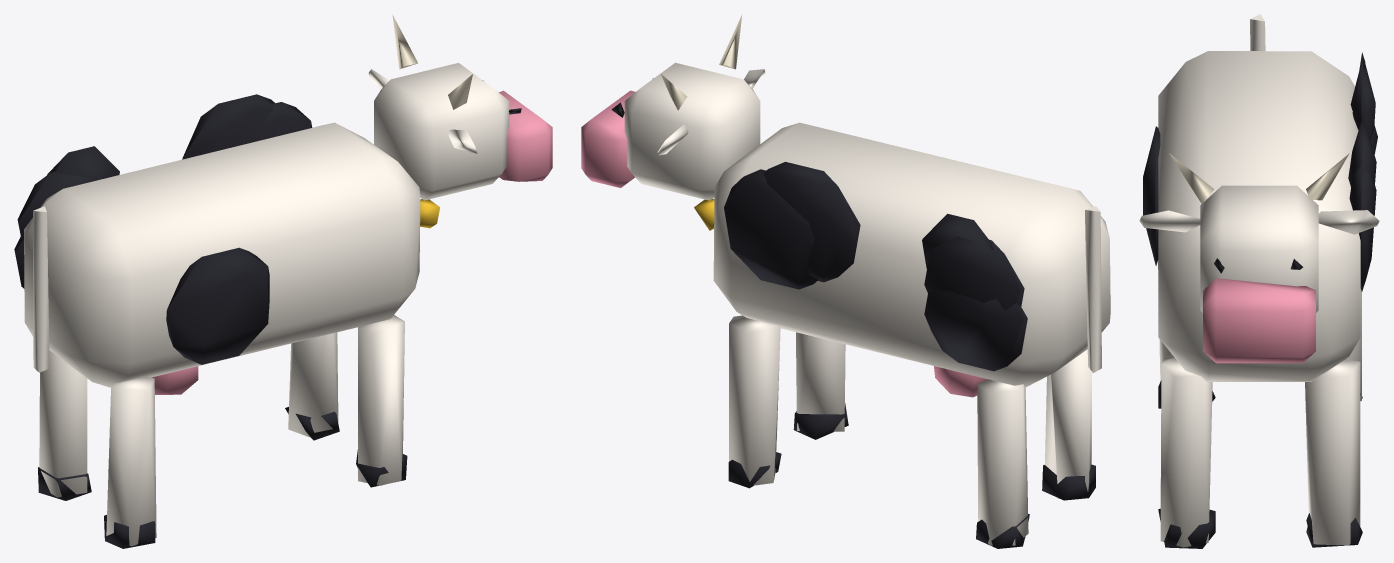
File: cow.glb
3 views of the same model, side by side, from view 1: azimuth 30°, elevation 25°; view 2: azimuth 150°, elevation 25°; view 3: azimuth 270°, elevation 25° (orthographic). The views are drawn at different scales.
Visible parts, largest first — view 1: cow; view 2: cow; view 3: cow.
Part boxes in pixels (box(x1,y1,x2,y2)): cow: box(14, 14, 552, 548); cow: box(581, 14, 1110, 548); cow: box(1139, 14, 1379, 548).
Size of the model in its own units: 2.62 by 1.95 by 0.9799.
Materials: 1 (1 with a texture image).
